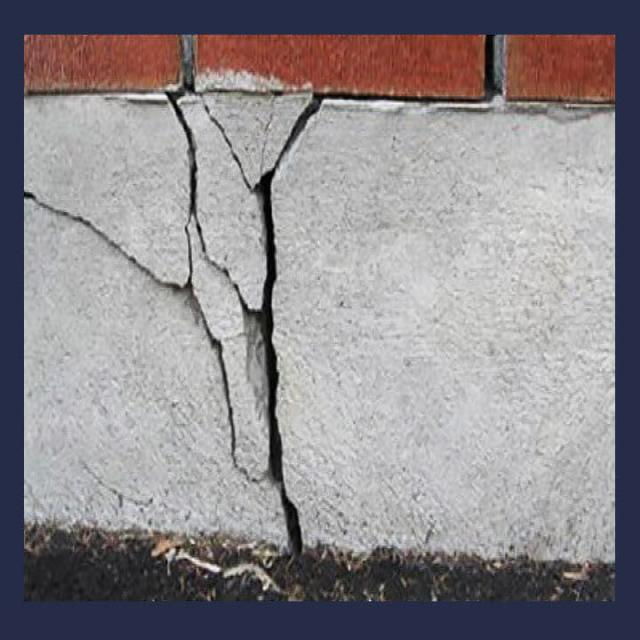Wall_Cracks: (27, 75, 614, 568)
